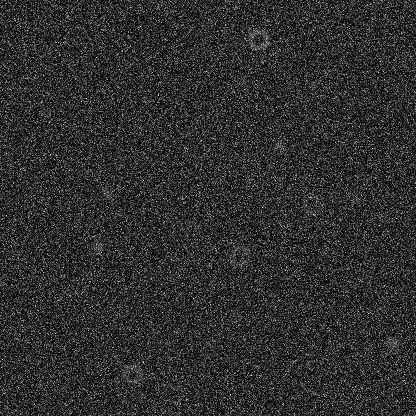Ring: (246, 27, 270, 51), (300, 192, 324, 216), (119, 361, 143, 385), (181, 220, 205, 244), (227, 244, 251, 268), (247, 164, 271, 188), (160, 382, 184, 406), (307, 77, 331, 101)
Spot: (270, 138, 286, 154), (384, 335, 400, 351), (89, 239, 105, 255), (99, 185, 115, 201)
